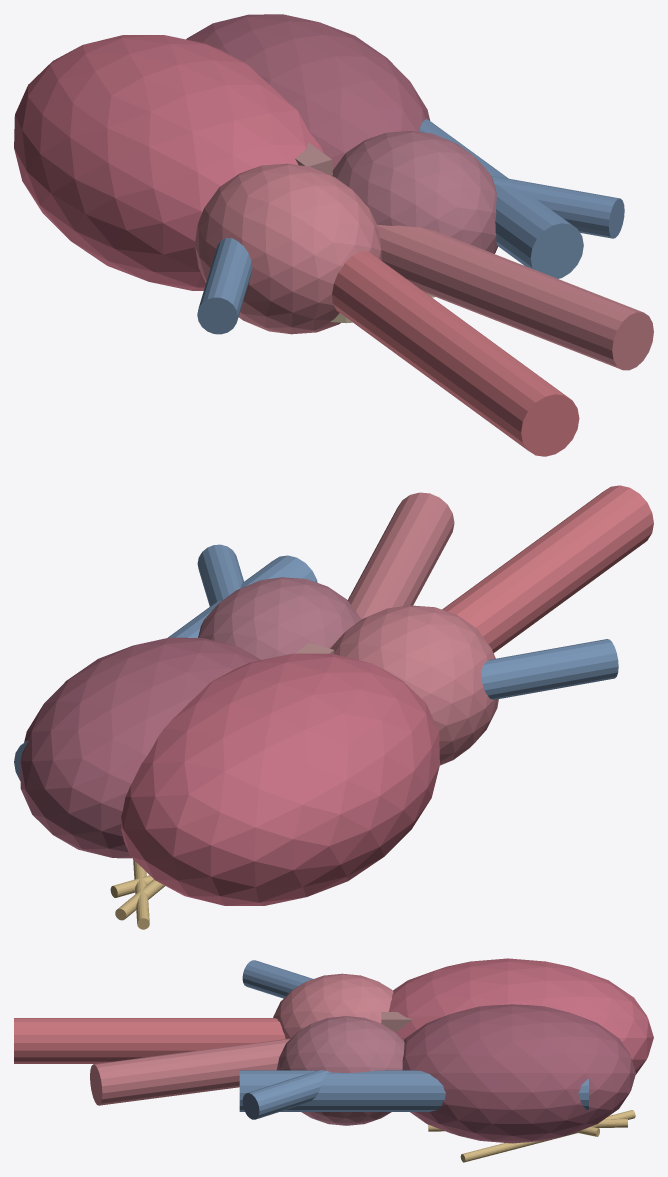
Rendered from heart-g3-medium.glb.
3 renders of one model, top to bottom at view 1: azimuth 30°, elevation 25°; view 2: azimuth 150°, elevation 25°; view 3: azimuth 270°, elevation 25°, orthographic. The views are drawn at different scales.
Visible parts, largest first — view 1: left_ventricle, left_atrium, aorta, right_ventricle, pulmonary_artery, right_atrium, vena_cava, left_pulmonary_vein_proxy, right_pulmonary_vein_proxy, interventricular_septum_proxy; view 2: left_ventricle, right_ventricle, aorta, left_atrium, right_atrium, pulmonary_artery, left_pulmonary_vein_proxy, right_pulmonary_vein_proxy, vena_cava, coronary_vessel_3; view 3: right_ventricle, left_ventricle, aorta, pulmonary_artery, right_atrium, vena_cava, left_atrium, right_pulmonary_vein_proxy, left_pulmonary_vein_proxy, coronary_vessel_3, interventricular_septum_proxy, coronary_vessel_2.
Part boxes in pixels (x1,y1,x2,y2): left_ventricle: (14, 35, 323, 290); left_atrium: (194, 163, 381, 334); aorta: (332, 251, 579, 456); right_ventricle: (186, 14, 430, 170); pulmonary_artery: (377, 224, 653, 370); right_atrium: (332, 131, 497, 253); vena_cava: (419, 119, 583, 278); left_pulmonary_vein_proxy: (197, 238, 252, 334); right_pulmonary_vein_proxy: (491, 176, 624, 238); interventricular_septum_proxy: (295, 142, 332, 175); left_ventricle: (121, 653, 439, 905); right_ventricle: (20, 637, 261, 858); aorta: (442, 485, 653, 652); left_atrium: (330, 605, 498, 765); right_atrium: (198, 577, 361, 659); pulmonary_artery: (347, 492, 454, 619); left_pulmonary_vein_proxy: (481, 639, 618, 699); right_pulmonary_vein_proxy: (197, 544, 243, 606); vena_cava: (14, 555, 317, 780); coronary_vessel_3: (133, 859, 149, 929); right_ventricle: (402, 1004, 635, 1143); left_ventricle: (388, 958, 653, 1074); aorta: (14, 1018, 285, 1063); pulmonary_artery: (90, 1038, 290, 1105); right_atrium: (277, 1016, 404, 1125); vena_cava: (239, 1070, 588, 1111); left_atrium: (273, 973, 393, 1038); right_pulmonary_vein_proxy: (242, 1070, 329, 1119); left_pulmonary_vein_proxy: (242, 960, 312, 998); coronary_vessel_3: (460, 1110, 635, 1162); interventricular_septum_proxy: (381, 1012, 413, 1032); coronary_vessel_2: (428, 1118, 627, 1131).
Bounding box in the file's own units: 1.69 × 0.74 × 3.2.
